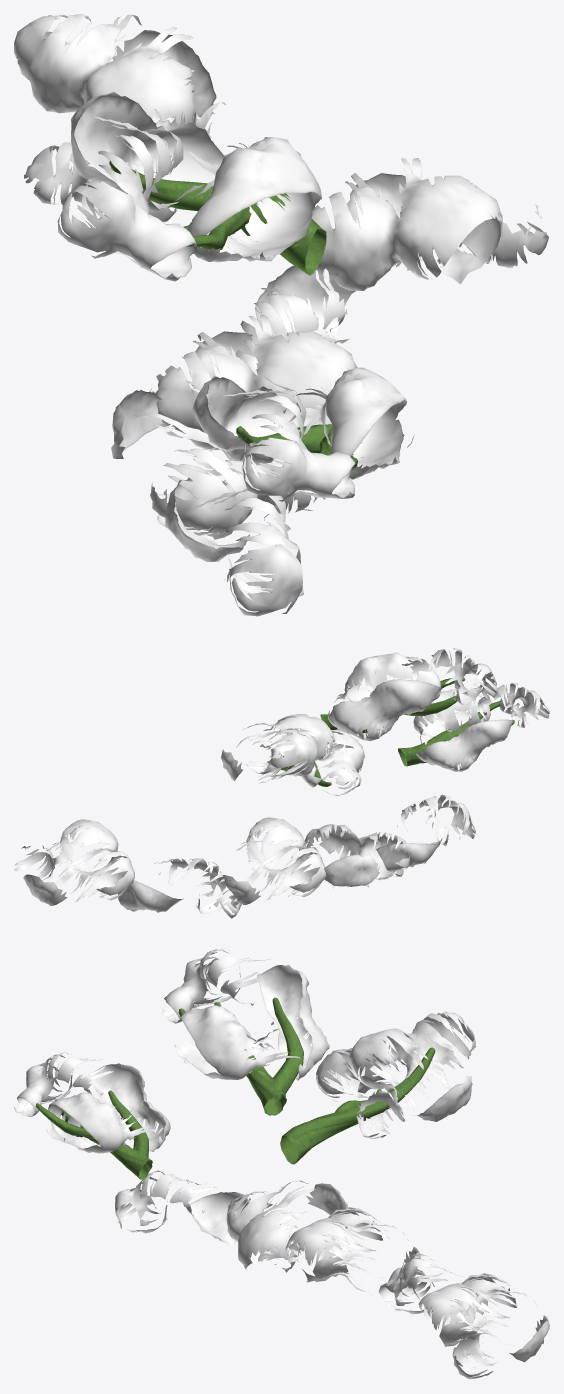
Rendered from SM_ENV_KNFRST_DistanceLeaf_GroupGa.FBX.
3 views of the same model, one above another, from view 1: azimuth 30°, elevation 25°; view 2: azimuth 150°, elevation 25°; view 3: azimuth 270°, elevation 25° (orthographic). The views are drawn at different scales.
Parts seen in each view (by area): view 1: SM_ENV_KNFRST_DistanceLeaf_GroupGa; view 2: SM_ENV_KNFRST_DistanceLeaf_GroupGa; view 3: SM_ENV_KNFRST_DistanceLeaf_GroupGa.
Part boxes in pixels (<box>): SM_ENV_KNFRST_DistanceLeaf_GroupGa: <box>14,14,548,616</box>; SM_ENV_KNFRST_DistanceLeaf_GroupGa: <box>14,648,549,918</box>; SM_ENV_KNFRST_DistanceLeaf_GroupGa: <box>14,948,549,1379</box>.
Size of the model in its own units: 7196 by 4570 by 7982.
